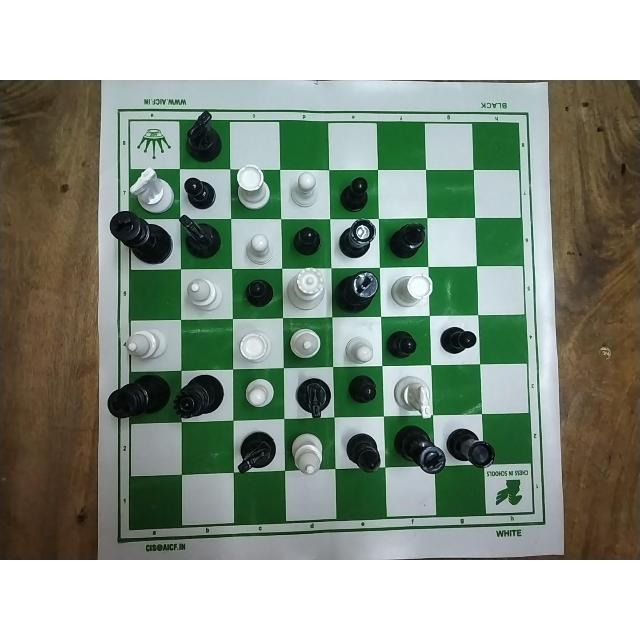white-pawn: (343, 328, 379, 368), (240, 230, 276, 270), (288, 170, 318, 216), (246, 375, 276, 414)
white-queen: (288, 268, 332, 313), (236, 164, 273, 216)
white-rook: (389, 271, 433, 312), (238, 328, 276, 364)
